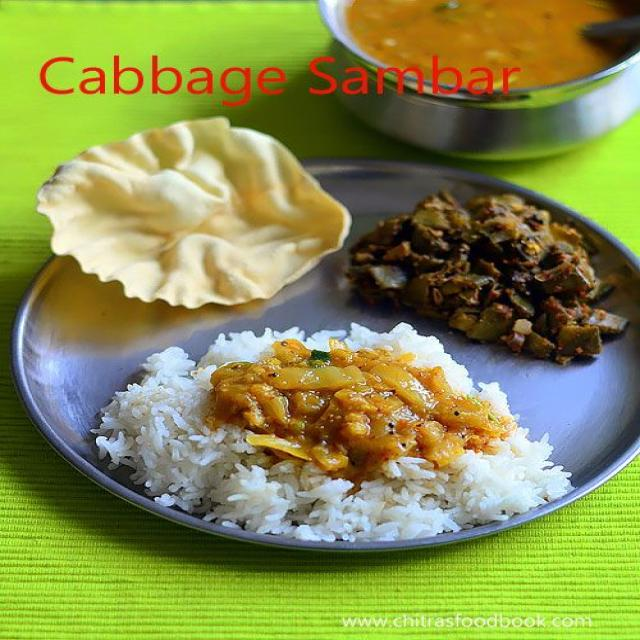veg meals: (20, 109, 640, 553)
